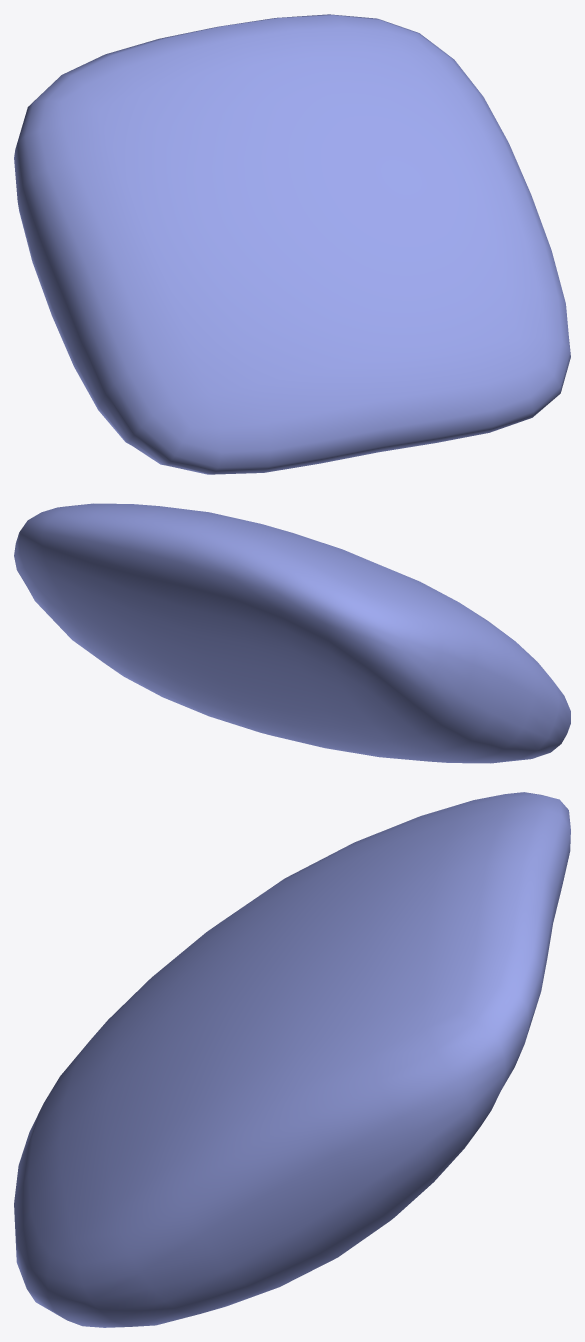
Rendered from Cushion2.fbx.
The picture shows the model from 3 angles, top to bottom: view 1: azimuth 30°, elevation 25°; view 2: azimuth 150°, elevation 25°; view 3: azimuth 270°, elevation 25°; orthographic projection. The views are drawn at different scales.
Visible parts, largest first — view 1: Pillow; view 2: Pillow; view 3: Pillow.
Part boxes in pixels (<box>): Pillow: <box>14,14,570,474</box>; Pillow: <box>14,503,570,763</box>; Pillow: <box>14,792,570,1327</box>.
Size of the model in its own units: 28.42 by 17.36 by 23.34.
